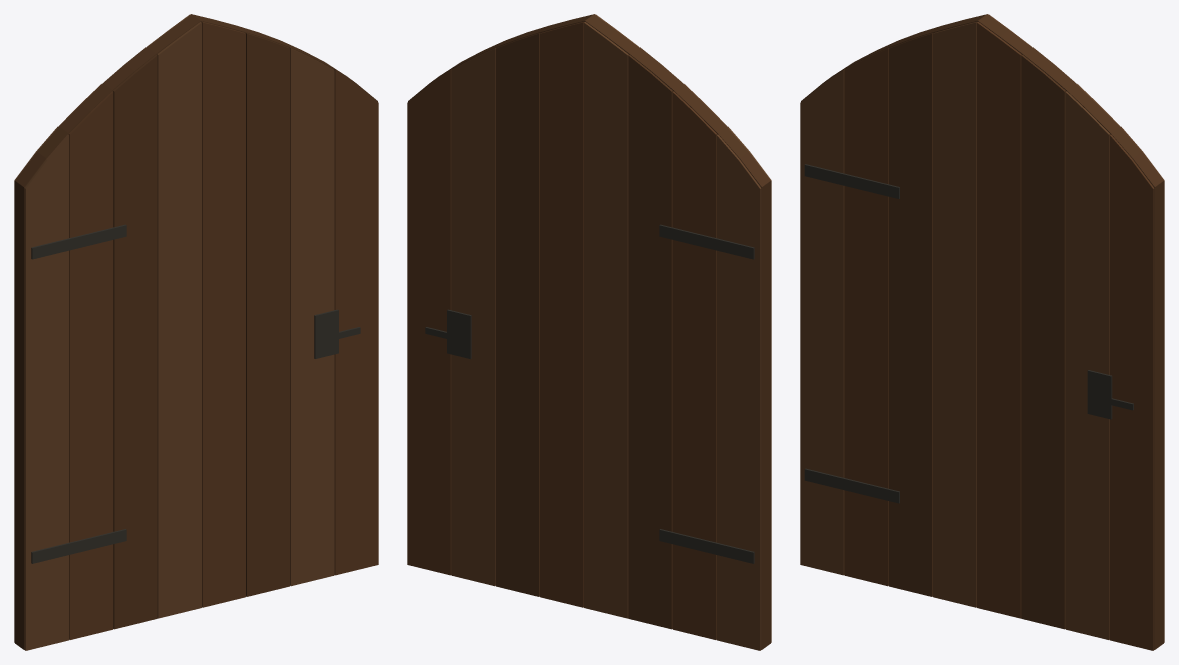
The model's file is pointed_oak_door.glb.
The picture shows the model from 3 angles, left to right: view 1: azimuth 30°, elevation 25°; view 2: azimuth 150°, elevation 25°; view 3: azimuth 330°, elevation 25°; orthographic projection.
Visible parts, largest first — view 1: Oak plank 4, Oak plank 5, Oak plank 6, Oak plank 3, Oak plank 7, Oak plank 2, Oak plank 1, Oak plank 8, Full-height fitted oak core, Blackened hinges and latch; view 2: Oak plank 4, Oak plank 5, Oak plank 6, Oak plank 3, Oak plank 7, Oak plank 2, Oak plank 1, Oak plank 8, Full-height fitted oak core, Blackened hinges and latch; view 3: Oak plank 5, Oak plank 4, Oak plank 6, Oak plank 3, Oak plank 7, Oak plank 8, Oak plank 2, Oak plank 1, Full-height fitted oak core, Blackened hinges and latch.
Part boxes in pixels (x1,y1,x2,y2): Oak plank 4: (147, 14, 201, 618); Oak plank 5: (191, 14, 245, 607); Oak plank 6: (245, 33, 290, 596); Oak plank 3: (102, 47, 157, 629); Oak plank 7: (290, 48, 334, 586); Oak plank 2: (58, 84, 113, 639); Oak plank 1: (14, 126, 69, 650); Oak plank 8: (334, 69, 378, 575); Full-height fitted oak core: (15, 14, 377, 649); Blackened hinges and latch: (31, 224, 360, 563); Oak plank 4: (584, 14, 638, 618); Oak plank 5: (540, 14, 594, 607); Oak plank 6: (495, 33, 540, 596); Oak plank 3: (628, 47, 683, 629); Oak plank 7: (451, 48, 495, 586); Oak plank 2: (672, 84, 727, 639); Oak plank 1: (716, 126, 771, 650); Oak plank 8: (407, 69, 451, 575); Full-height fitted oak core: (408, 14, 770, 649); Blackened hinges and latch: (425, 224, 754, 563); Oak plank 5: (977, 14, 1031, 618); Oak plank 4: (933, 14, 987, 607); Oak plank 6: (1021, 47, 1076, 629); Oak plank 3: (888, 33, 933, 596); Oak plank 7: (1065, 84, 1120, 639); Oak plank 8: (1109, 126, 1164, 650); Oak plank 2: (844, 48, 888, 586); Oak plank 1: (800, 69, 844, 575); Full-height fitted oak core: (801, 14, 1163, 649); Blackened hinges and latch: (804, 164, 1133, 503).
Bounding box in the file's own units: 1.8 × 2.85 × 0.12.
